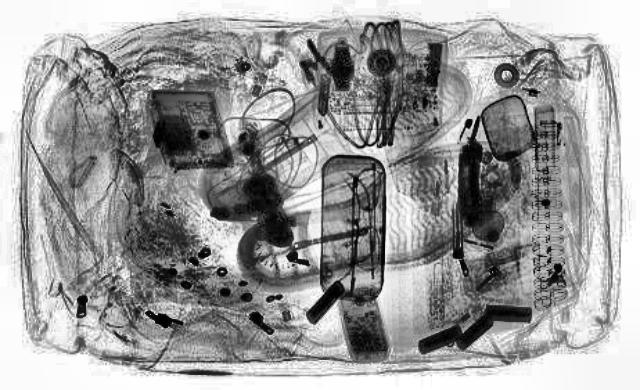Gun: (210, 168, 300, 246)
